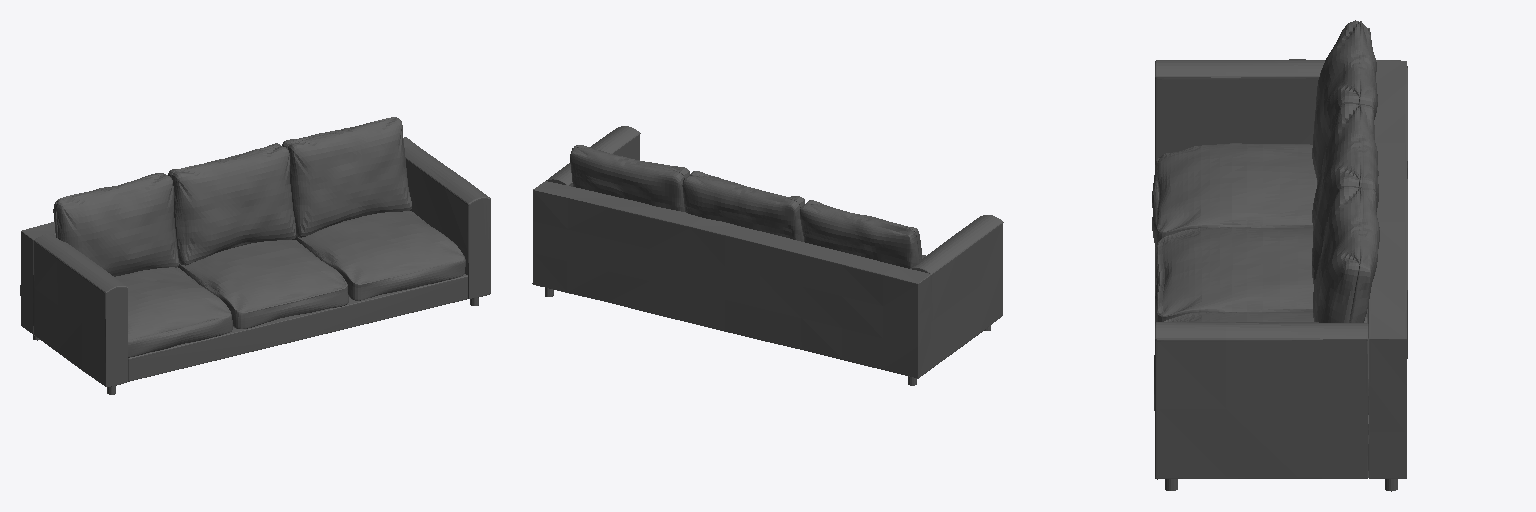
URDF robot description (couch.urdf):
<?xml version="0.0" ?>
<robot name="couch.urdf">
  <link name="baseLink">
    <contact>
      <lateral_friction value="1.0"/>
    </contact>

    <inertial>
      <origin rpy="0 0 0" xyz="0 0 0"/>
       <mass value=".0"/>
       <inertia ixx="1" ixy="0" ixz="0" iyy="1" iyz="0" izz="1"/>
    </inertial>

    <visual>
      <origin rpy="1.57075 0 0" xyz="0 -1 0"/>
      <geometry>
        <mesh filename="Couch.obj" scale="1 1 1"/>
      </geometry>
       <material name="gray">
        <color rgba="0.4 0.4 0.4 1"/>
      </material>
    </visual>

    <collision concave="yes">
      <origin rpy="1.57075 0 0" xyz="0 -1 0"/>
      <geometry>
	 	    <mesh filename="Couch.obj" scale="1 1 1"/>
      </geometry>
    </collision>
  </link>
</robot>

--- What the picture shows (computed from the rendered views, not written in the file) ---
Views: 3 orthographic renders of the robot side by side, from view 1: azimuth 30°, elevation 25°; view 2: azimuth 150°, elevation 25°; view 3: azimuth 270°, elevation 25°.
Model couch.urdf with 1 links and 0 joints (none), rooted at baseLink, posed all joints at 0.
Visible links, largest first — view 1: baseLink; view 2: baseLink; view 3: baseLink.
Boxes of the visible links, x1,y1,x2,y2 form: baseLink: [20, 117, 490, 394]; baseLink: [532, 126, 1003, 385]; baseLink: [1152, 20, 1407, 491].
Size in the robot's own frame: 3.41 by 1.32 by 1.23 metres.
1 mesh visuals loaded from 1 distinct referenced files (1 OBJ).